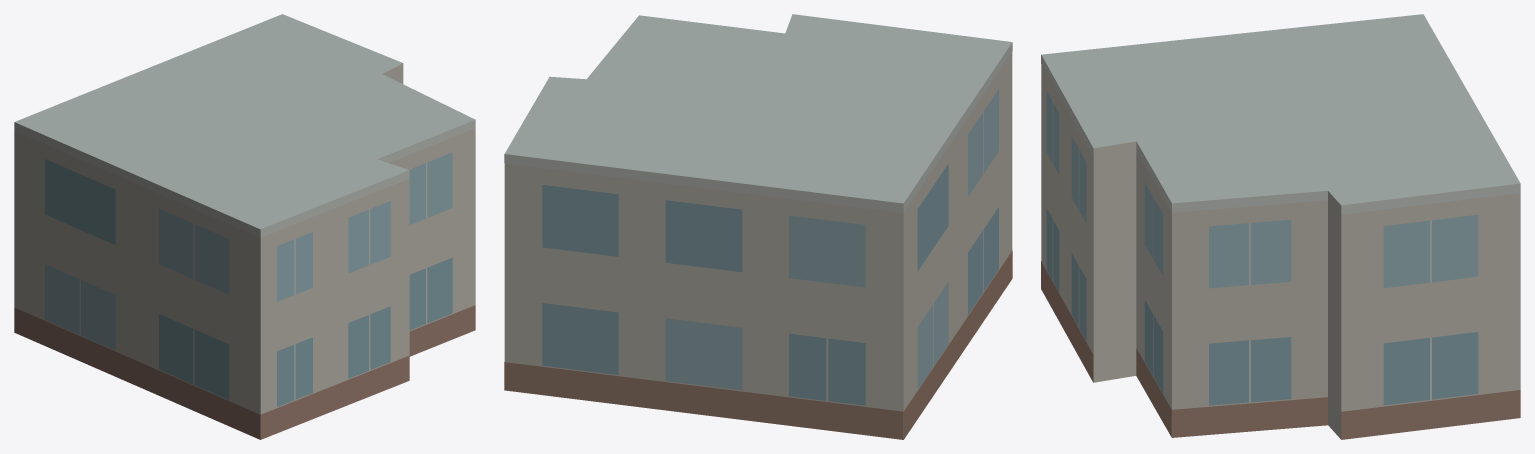
File: survey-upis-32751958.glb
3 renders of one model, left to right at view 1: azimuth 30°, elevation 25°; view 2: azimuth 150°, elevation 25°; view 3: azimuth 270°, elevation 25°, orthographic. The views are drawn at different scales.
Parts seen in each view (by area): view 1: survey-upis-32751958.tmp; view 2: survey-upis-32751958.tmp; view 3: survey-upis-32751958.tmp.
Boxes of the visible parts, x1,y1,x2,y2 form: survey-upis-32751958.tmp: (14, 14, 475, 439); survey-upis-32751958.tmp: (504, 14, 1012, 439); survey-upis-32751958.tmp: (1041, 14, 1520, 439).
Bounding box in the file's own units: 10.69 × 6.1 × 11.32.
